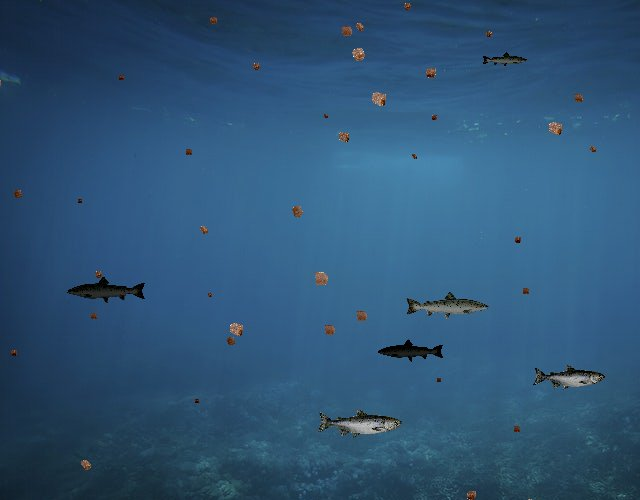Fish: (404, 290, 490, 321), (316, 408, 402, 439), (66, 276, 148, 305), (532, 365, 605, 391), (378, 338, 446, 362), (482, 52, 529, 69)
Pellet: (75, 454, 96, 476), (569, 88, 588, 107), (350, 18, 369, 37), (510, 233, 524, 247), (428, 111, 441, 124), (115, 71, 127, 83), (204, 290, 214, 300)
